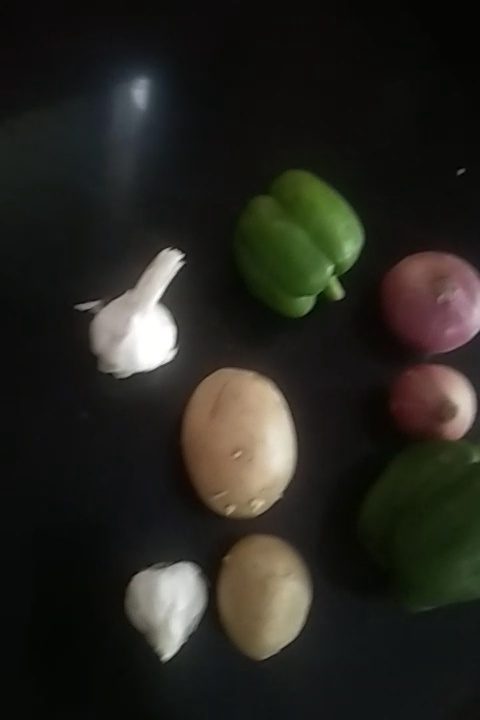capsicum: (349, 445, 480, 619), (228, 158, 363, 319)
garlic: (87, 249, 194, 383), (122, 561, 211, 664)
onion: (381, 251, 480, 349), (378, 364, 480, 437)
potato: (179, 363, 301, 522), (217, 534, 324, 666)
